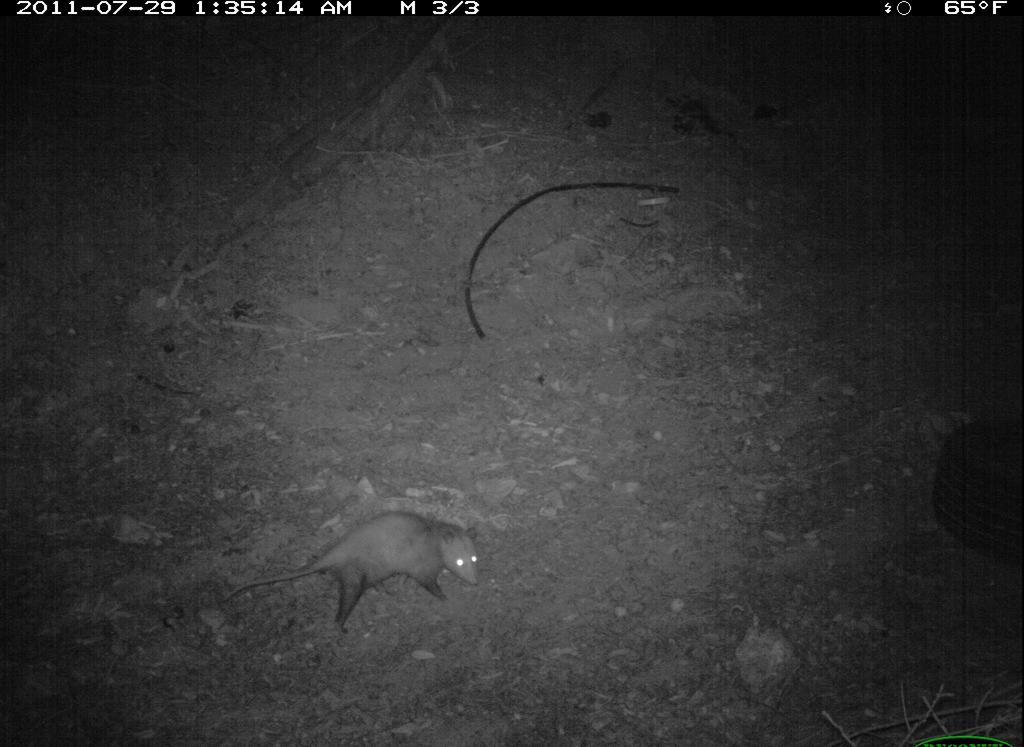opossum: (216, 501, 491, 634)
